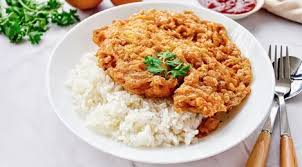Nasi putih: (71, 88, 202, 151)
Telur dadar: (92, 8, 252, 114)
